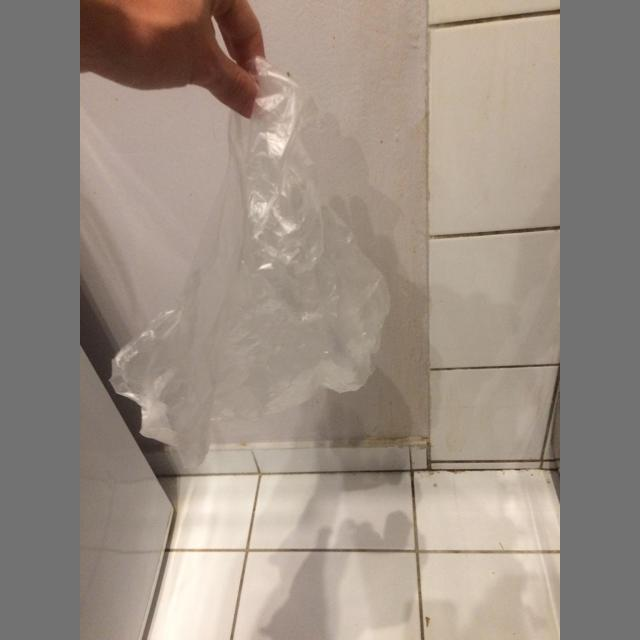litter: (108, 56, 389, 468)
